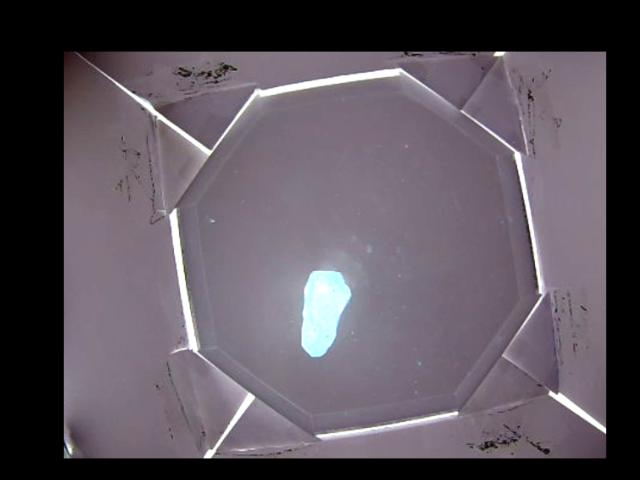Brisk: (302, 269, 348, 356)
